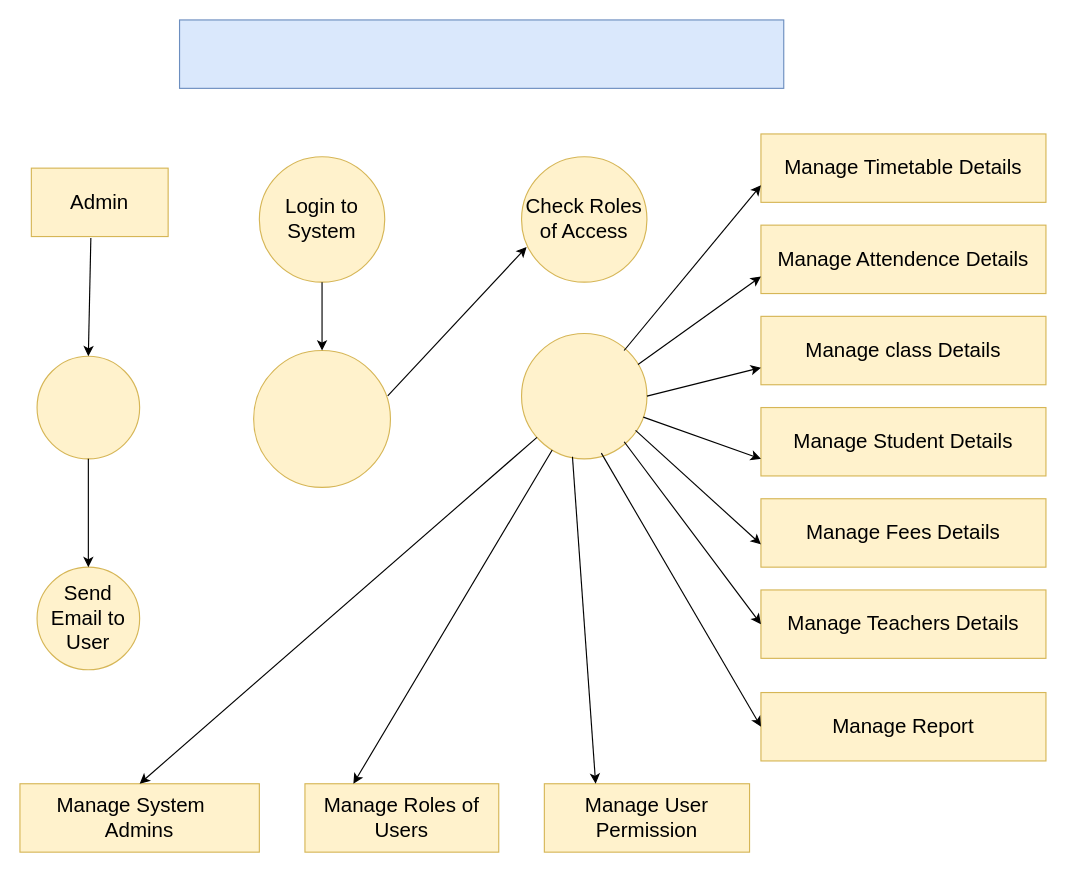
Some shapes in this 1066 by 872 pixel diagram are drawn without their labels. The centre of each missing label's shape, as x and y in pixels:
"Checks Credentials" belongs at [321,418].
"Forgot Password" belongs at [88,407].
"Manage Modules" belongs at [583,395].
"Student Information System" belongs at [481,53].
